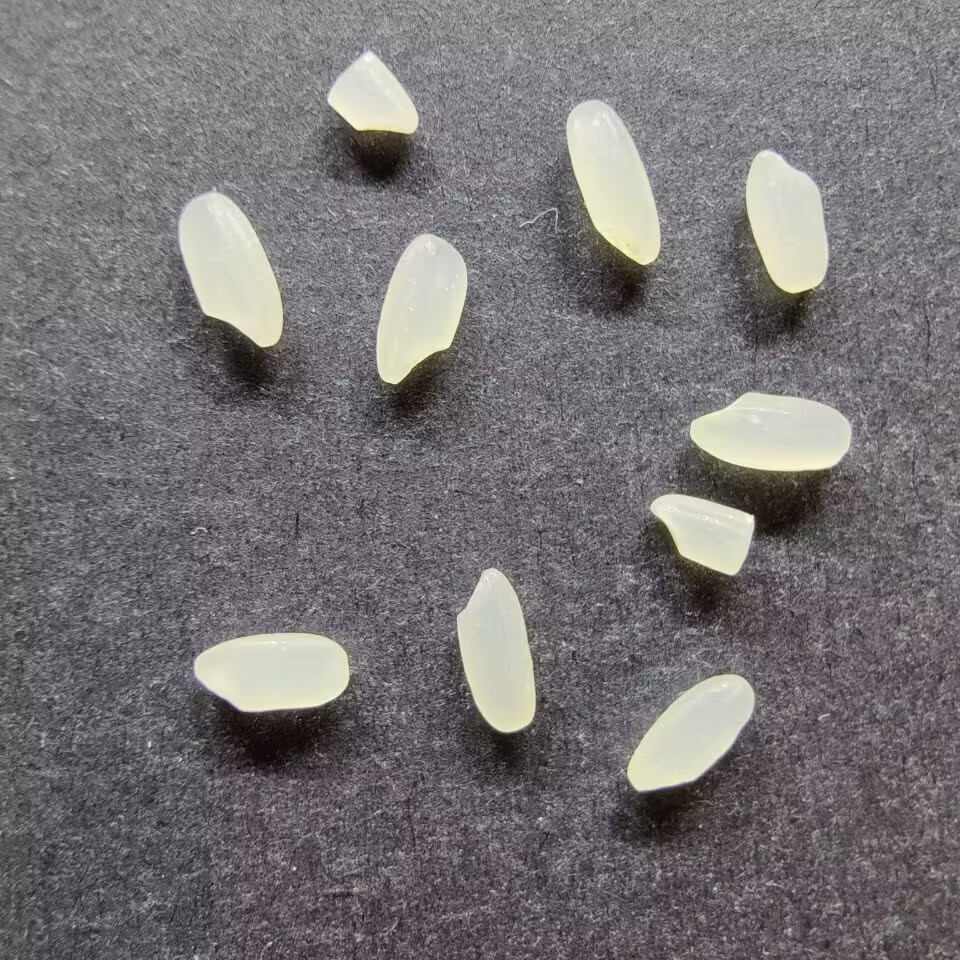broken: (647, 492, 755, 578), (325, 47, 420, 136)
rice: (176, 191, 285, 349), (563, 98, 662, 266), (624, 672, 755, 793), (373, 231, 469, 386), (687, 390, 853, 474), (454, 566, 537, 734), (191, 630, 351, 714), (743, 149, 830, 293)
